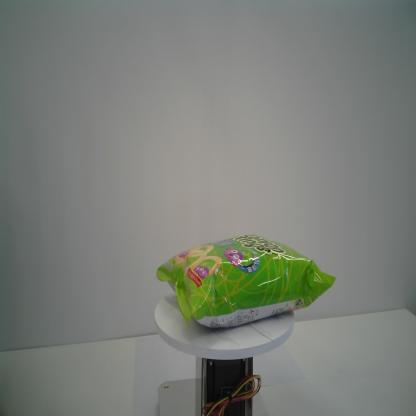Puffed Food: (156, 233, 337, 330)
